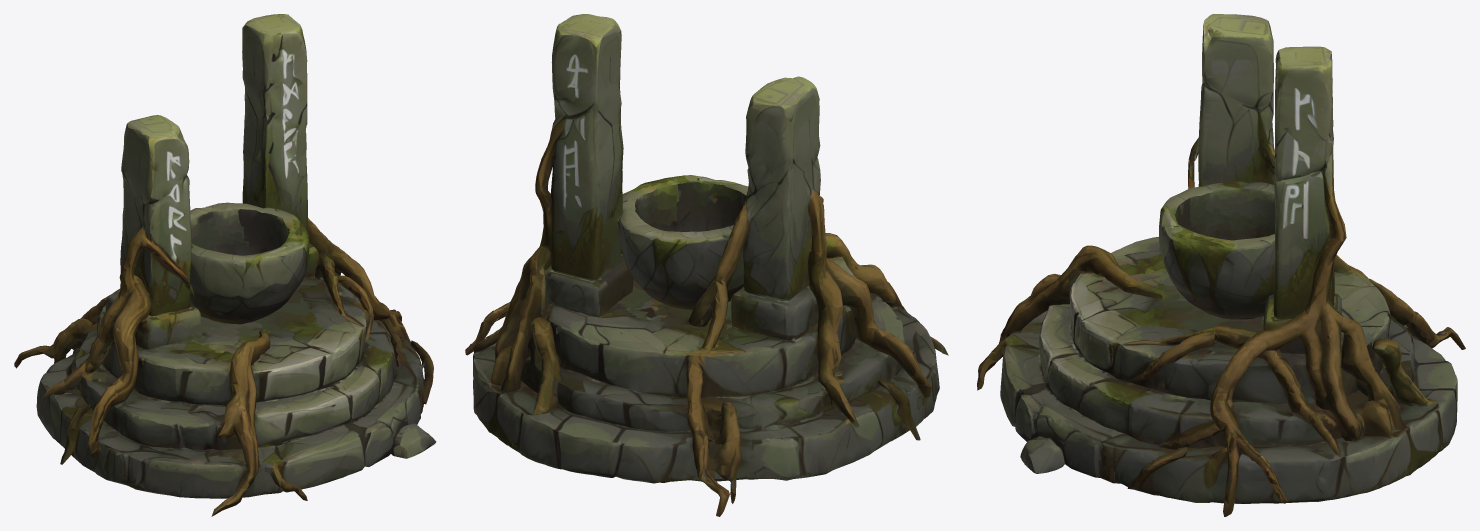
Rendered from struct_revive_altar.glb.
3 renders of one model, left to right at view 1: azimuth 30°, elevation 25°; view 2: azimuth 150°, elevation 25°; view 3: azimuth 270°, elevation 25°, orthographic. The views are drawn at different scales.
Visible parts, largest first — view 1: struct_revive_altar; view 2: struct_revive_altar; view 3: struct_revive_altar.
Boxes of the visible parts, x1,y1,x2,y2 form: struct_revive_altar: (14,14,436,516); struct_revive_altar: (465,14,948,516); struct_revive_altar: (977,14,1465,516).
Bounding box in the file's own units: 2.5 × 2.27 × 2.46.
Materials: 1 (1 with a texture image).
